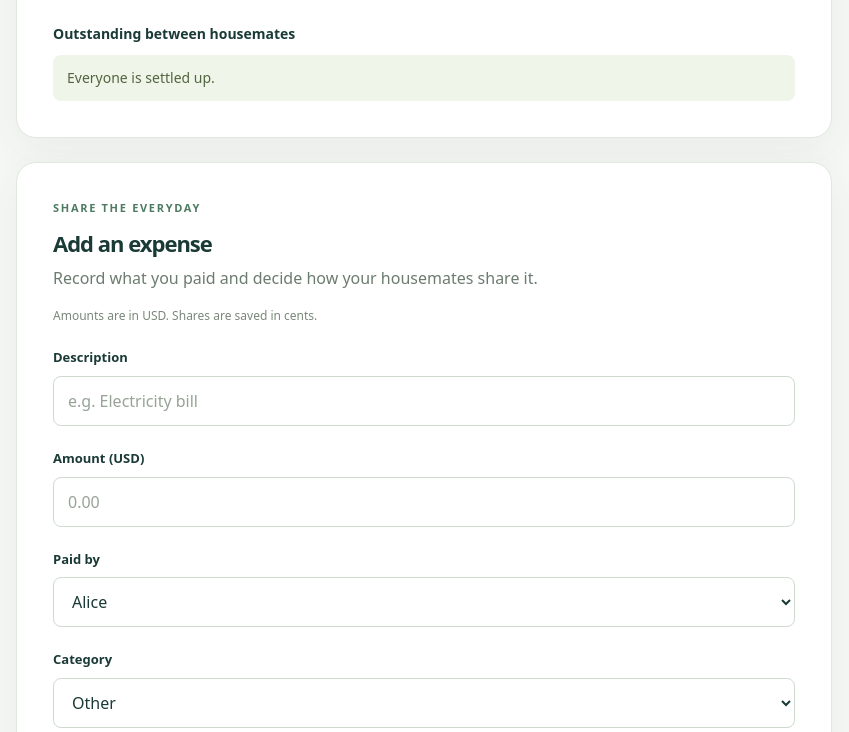
Test: expense history and details › refreshes the first history page after a successful expense save
The width and height of the screenshot is (849, 732).
(page scrolled)
Type "New expense" into the field labelled "Description" at (424, 401), box [53,376,795,426]
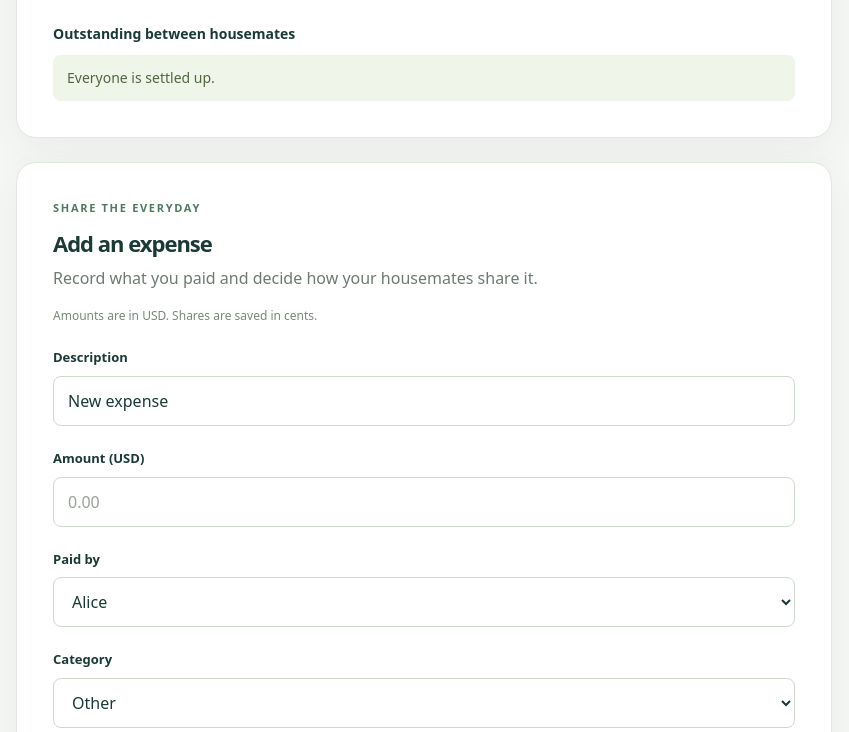
Type "10.01" into the field labelled "Amount (USD)" at (424, 502), box [53,476,795,527]
(page scrolled)
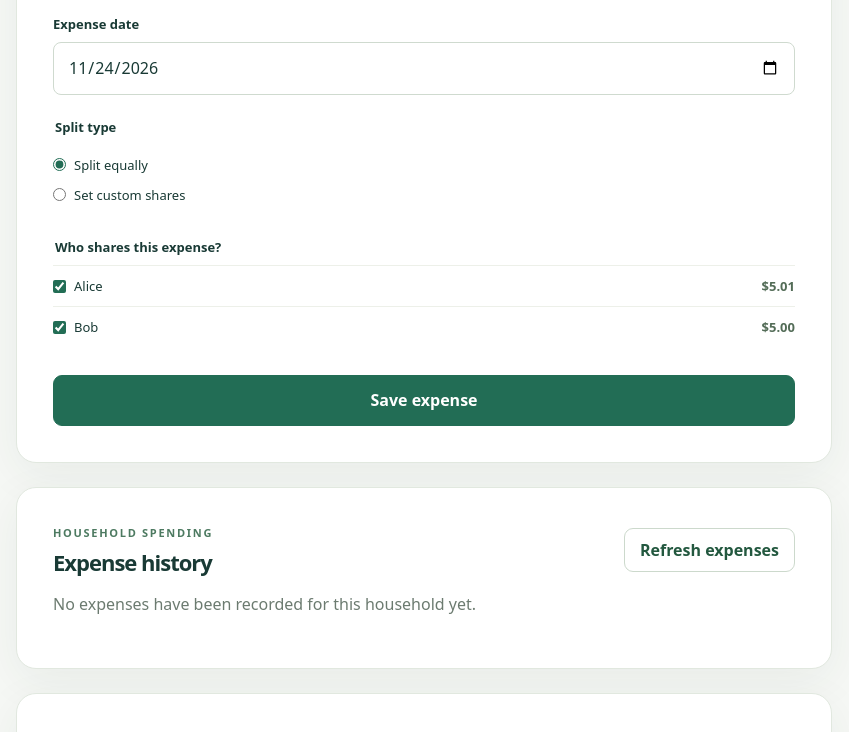
Click the button "Save expense" at (424, 401), box [53,375,795,426]
(page scrolled)
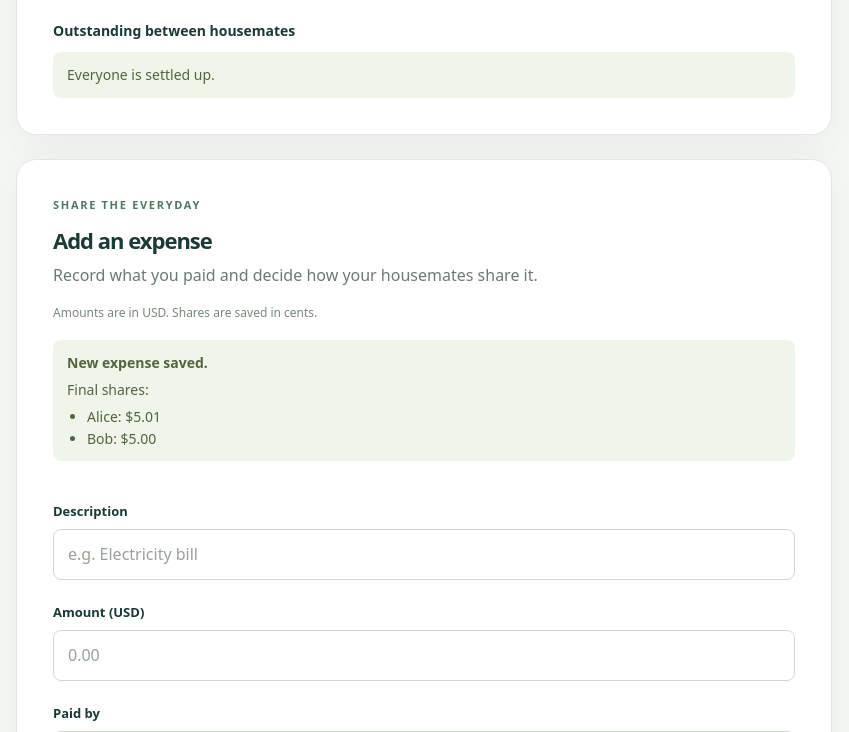
Now the message "expense saved" is shown, box [53,340,795,461]
